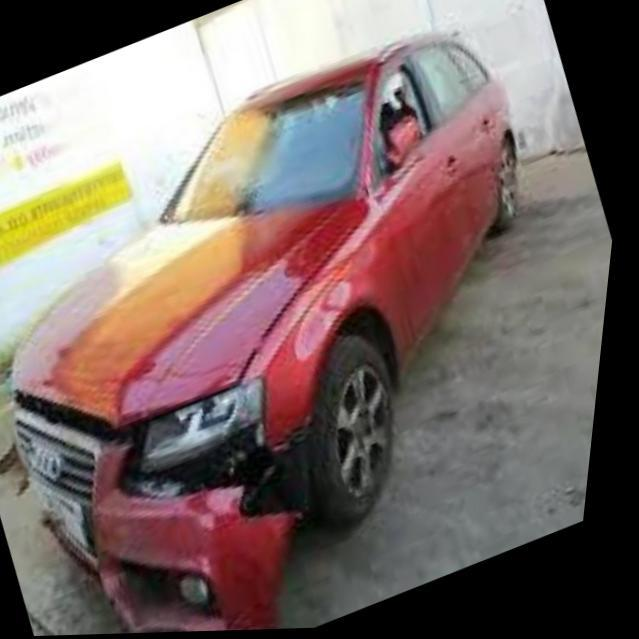dislocated part: (20, 375, 320, 634)
